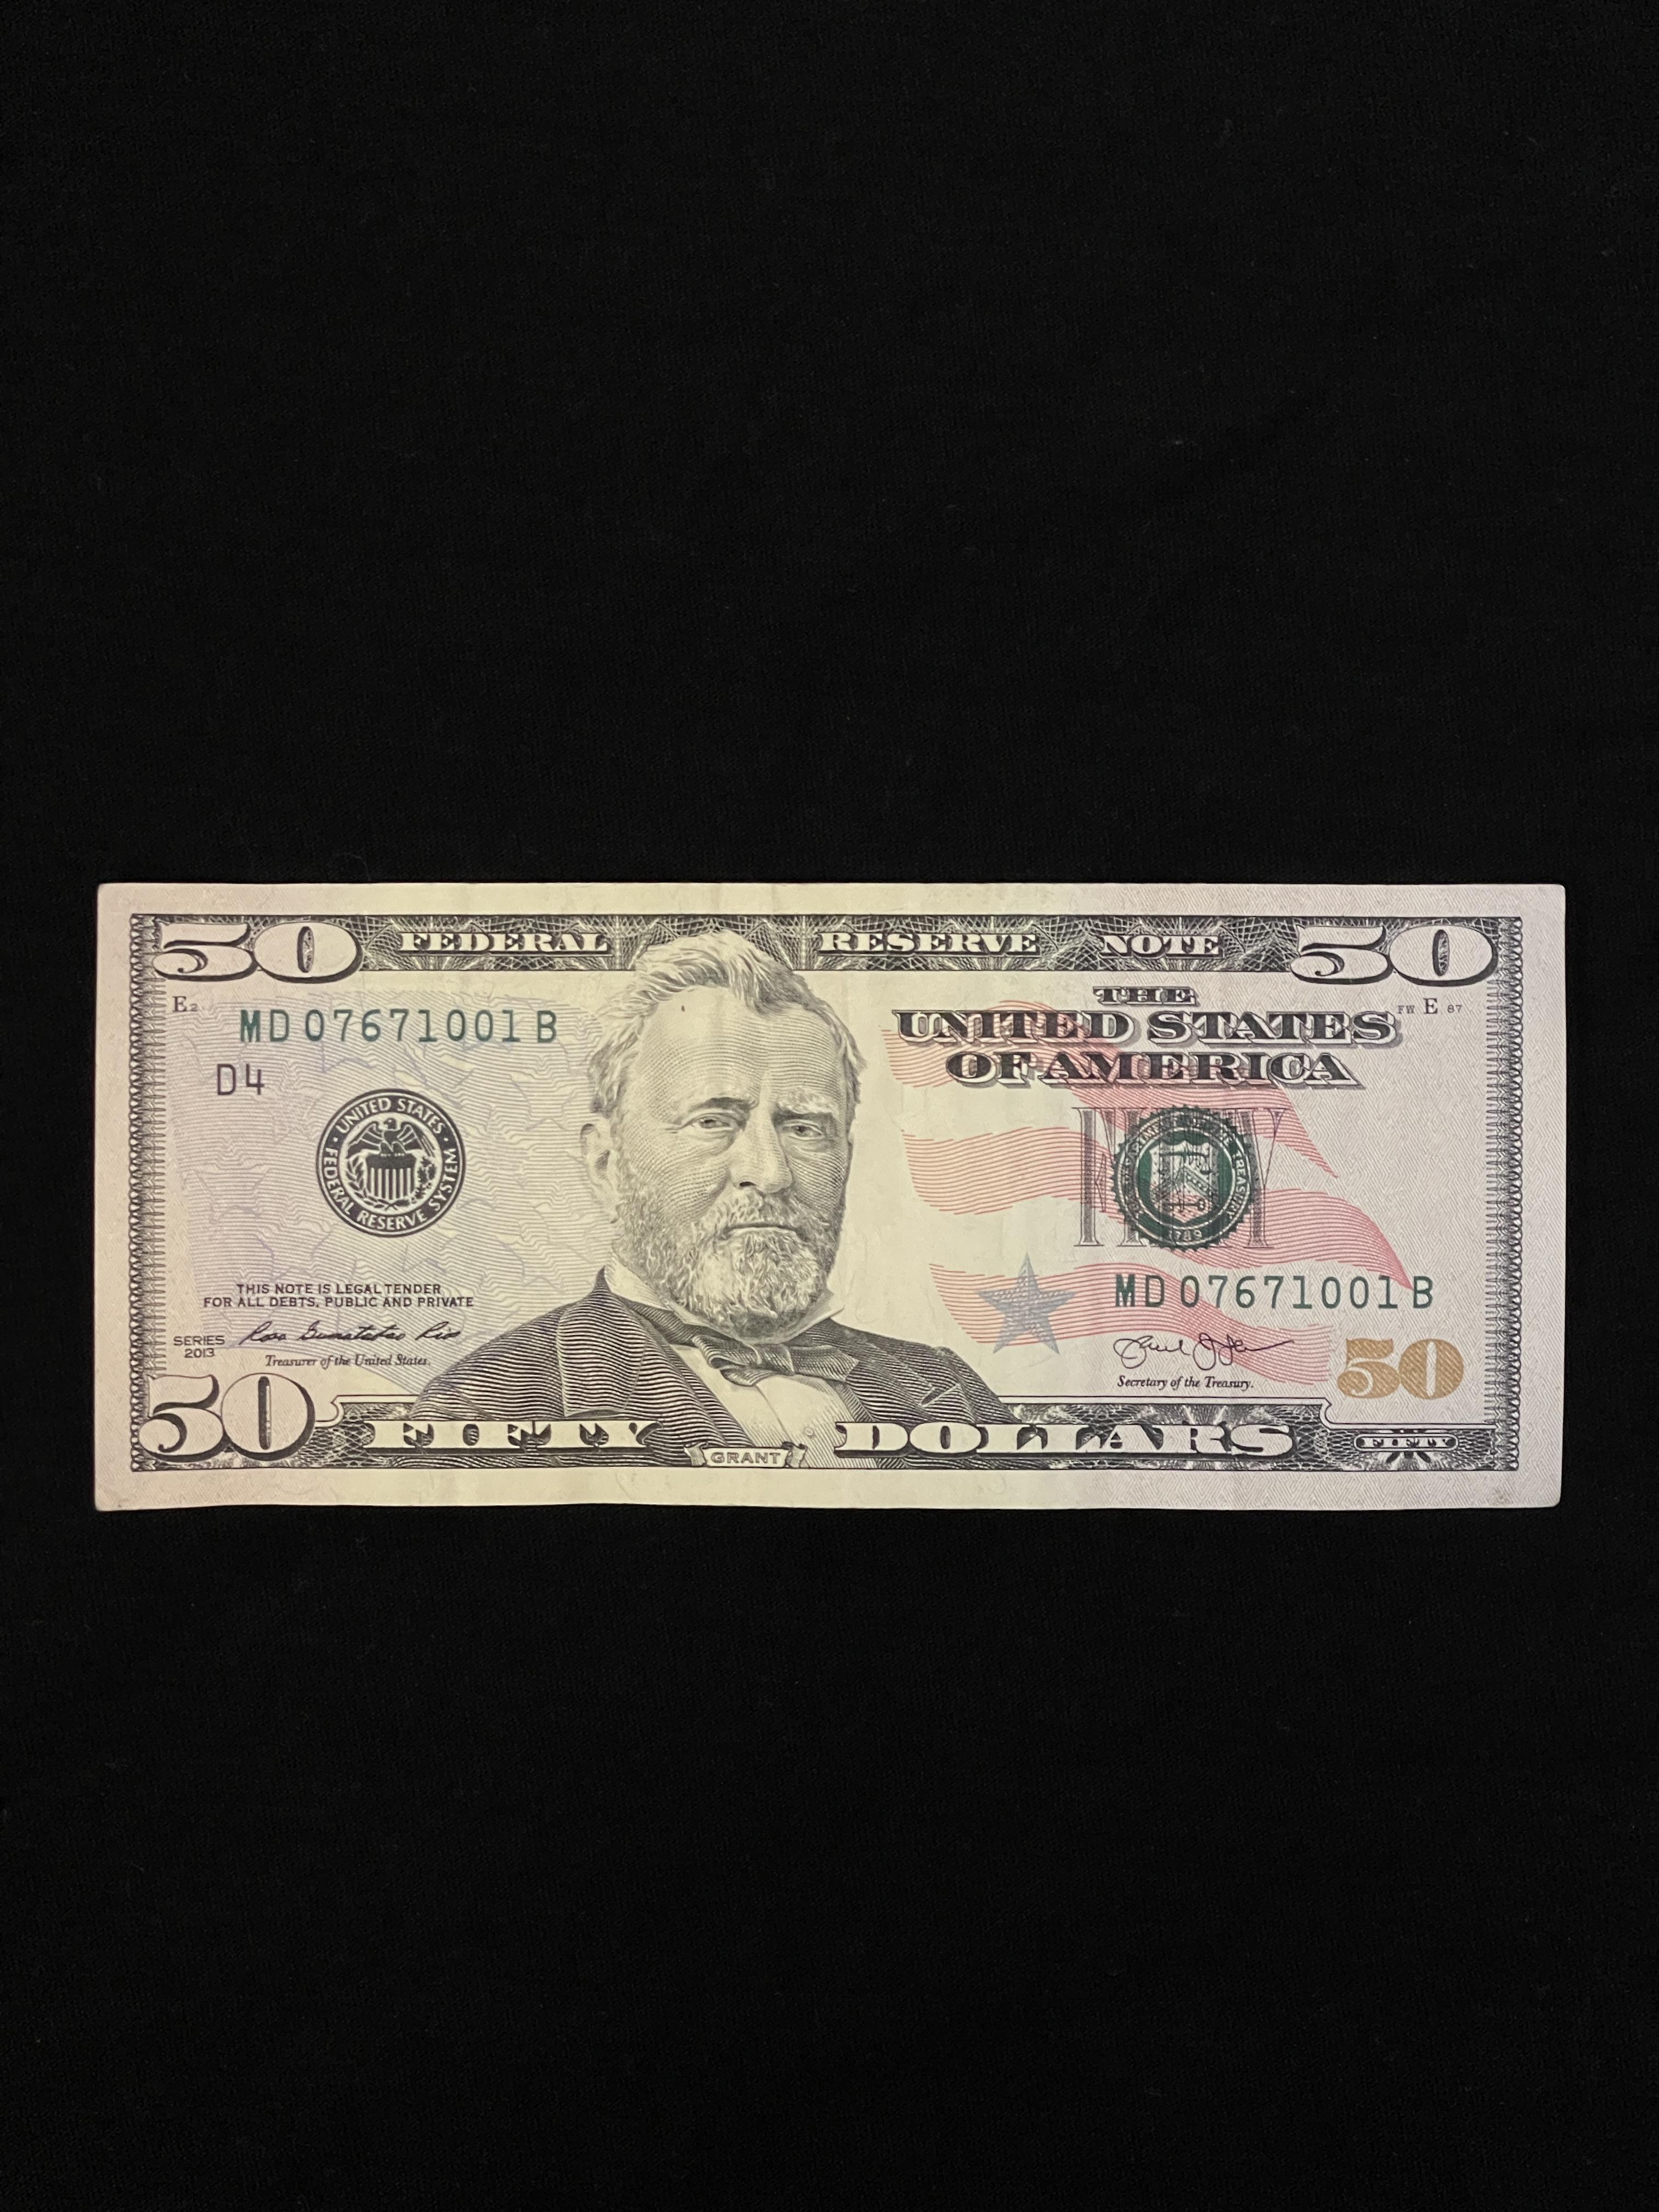FiftyBill: (85, 873, 1577, 1517)
